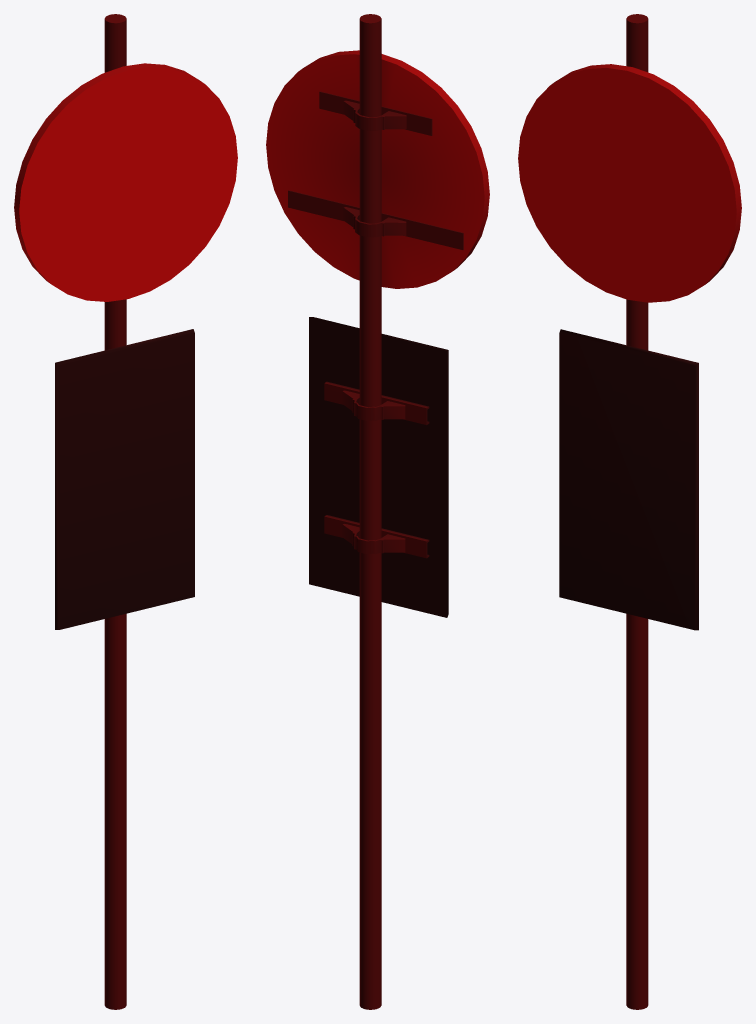
File: Roadsign002.glb
The picture shows the model from 3 angles, left to right: view 1: azimuth 30°, elevation 25°; view 2: azimuth 150°, elevation 25°; view 3: azimuth 330°, elevation 25°; orthographic projection.
Parts seen in each view (by area): view 1: Roadsign002; view 2: Roadsign002; view 3: Roadsign002.
Part boxes in pixels (box(x1,y1,x2,y2)): Roadsign002: box(14, 14, 237, 1009); Roadsign002: box(266, 14, 489, 1009); Roadsign002: box(518, 14, 741, 1009).
Size of the model in its own units: 3.01 by 12.99 by 0.4336.
